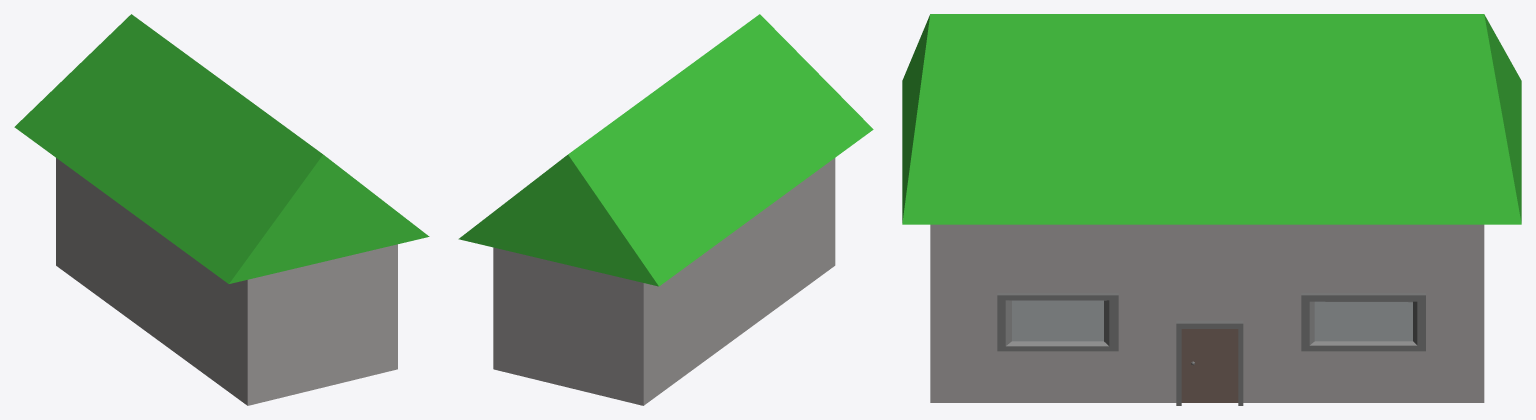
The model's file is Small6.fbx.
3 renders of one model, left to right at view 1: azimuth 30°, elevation 25°; view 2: azimuth 150°, elevation 25°; view 3: azimuth 270°, elevation 25°, orthographic. The views are drawn at different scales.
Parts seen in each view (by area): view 1: pCube2; view 2: pCube2; view 3: pCube2.
Part boxes in pixels (x1,y1,x2,y2): pCube2: [14, 14, 429, 405]; pCube2: [458, 14, 873, 405]; pCube2: [902, 14, 1521, 405].
Size of the model in its own units: 7.99 by 8.86 by 14.79.
